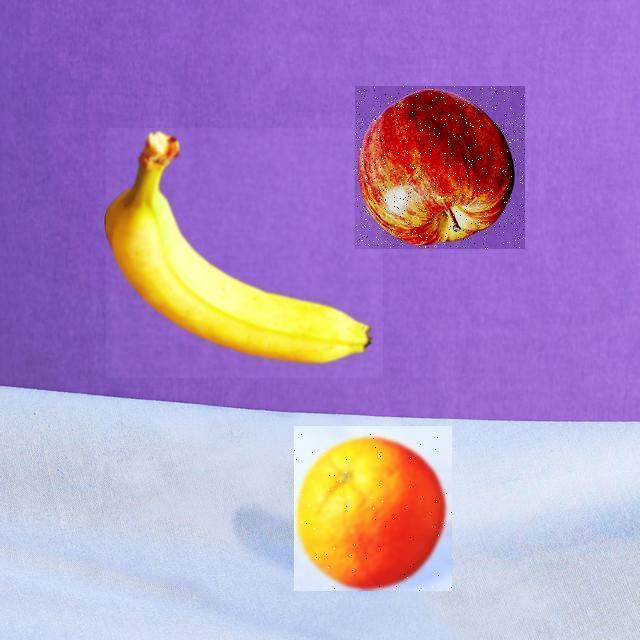Apple: (355, 86, 525, 249)
Banana: (106, 128, 383, 378)
Orange: (295, 426, 453, 591)
